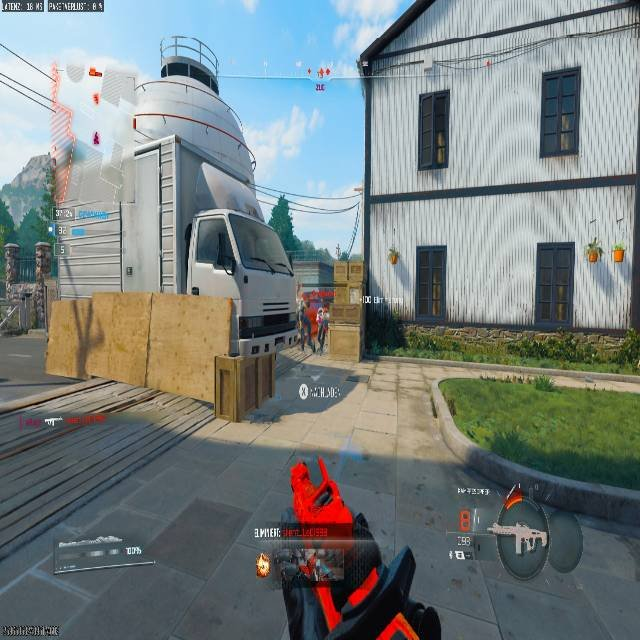player: (301, 295, 326, 354), (294, 296, 314, 352), (314, 305, 329, 349)
